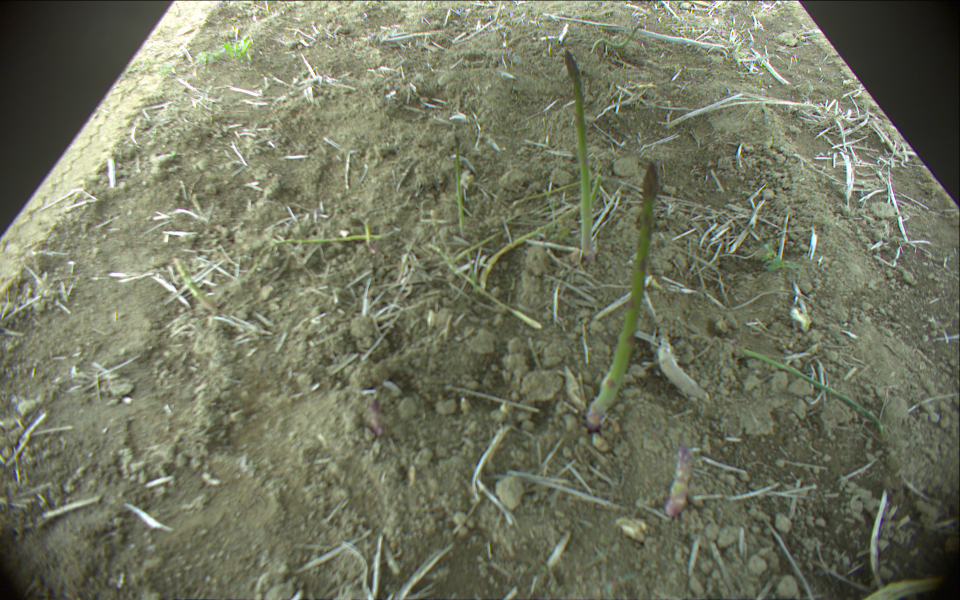aspa: (585, 162, 658, 426), (478, 180, 599, 289), (735, 345, 885, 430), (558, 42, 600, 264), (259, 230, 394, 253), (171, 258, 217, 317), (659, 445, 694, 515), (449, 131, 467, 231)
